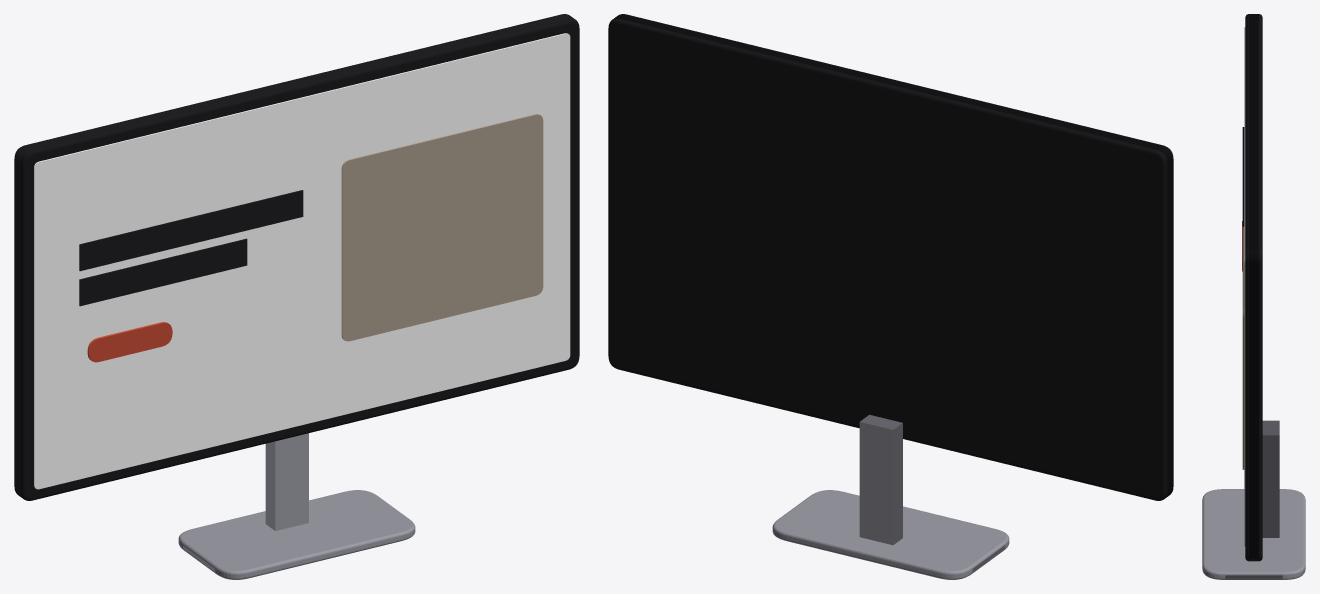
File: monitor.glb
3 renders of one model, left to right at view 1: azimuth 30°, elevation 25°; view 2: azimuth 150°, elevation 25°; view 3: azimuth 270°, elevation 25°, orthographic. The views are drawn at different scales.
Parts seen in each view (by area): view 1: screen, ui-image, frame, foot, ui-headline, ui-headline-2, neck, ui-button; view 2: frame, foot, neck; view 3: frame, foot, neck, screen, ui-image, ui-headline.
Part boxes in pixels (x1,y1,x2,y2): screen: (34, 33, 570, 489); ui-image: (341, 114, 543, 341); frame: (14, 14, 579, 500); foot: (178, 490, 415, 579); ui-headline: (79, 190, 303, 271); ui-headline-2: (79, 238, 247, 306); neck: (265, 433, 308, 530); ui-button: (87, 322, 172, 362); frame: (608, 14, 1173, 500); foot: (772, 490, 1009, 579); neck: (859, 414, 902, 545); frame: (1245, 14, 1262, 561); foot: (1202, 489, 1305, 579); neck: (1262, 420, 1279, 537); screen: (1244, 27, 1245, 547); ui-image: (1242, 226, 1244, 469); ui-headline: (1242, 127, 1244, 226).
Bounding box in the file's own units: 2 × 1.57 × 0.36.
